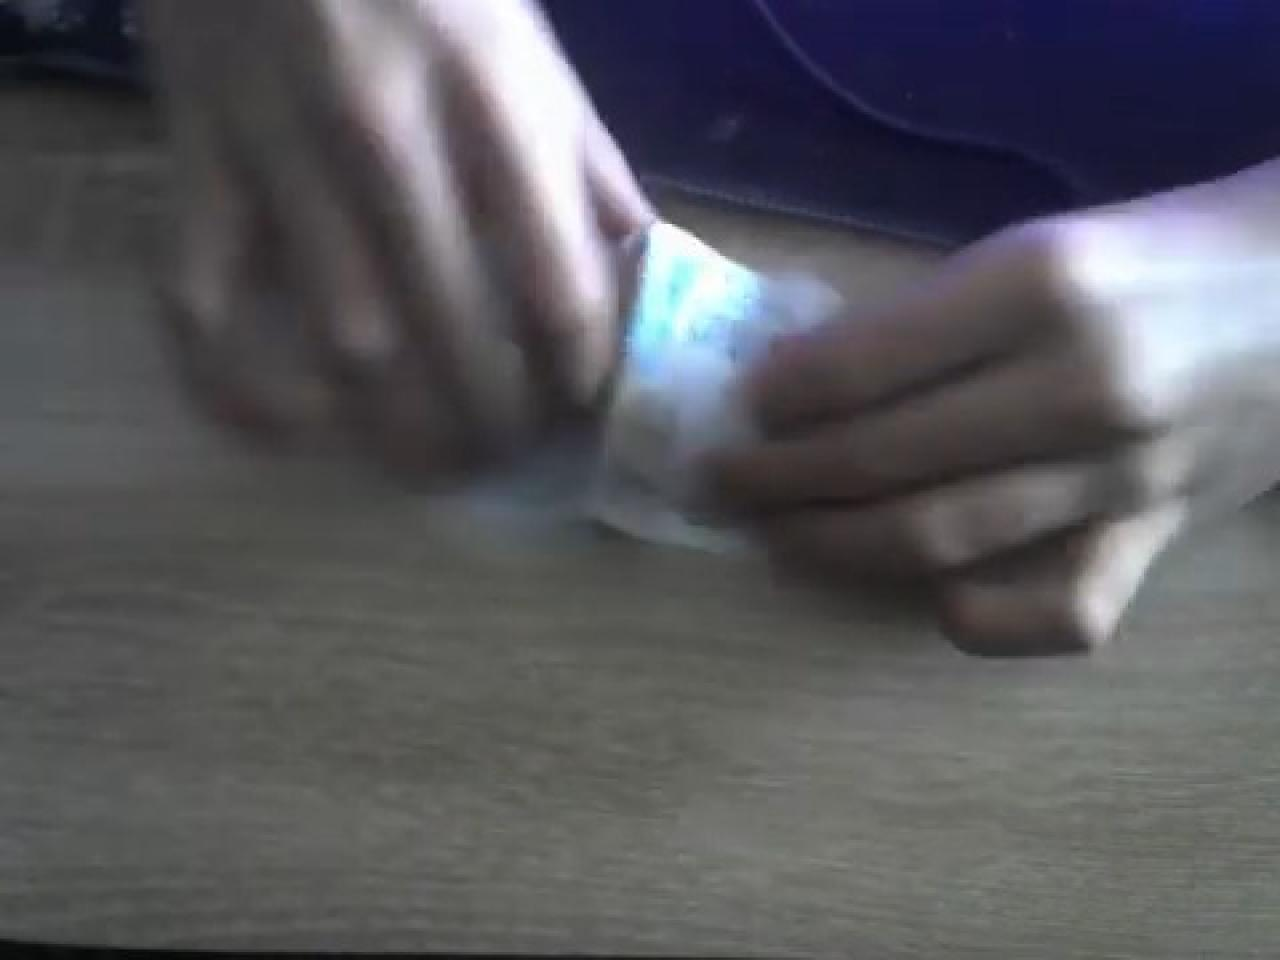20leva: (126, 0, 1278, 664)
